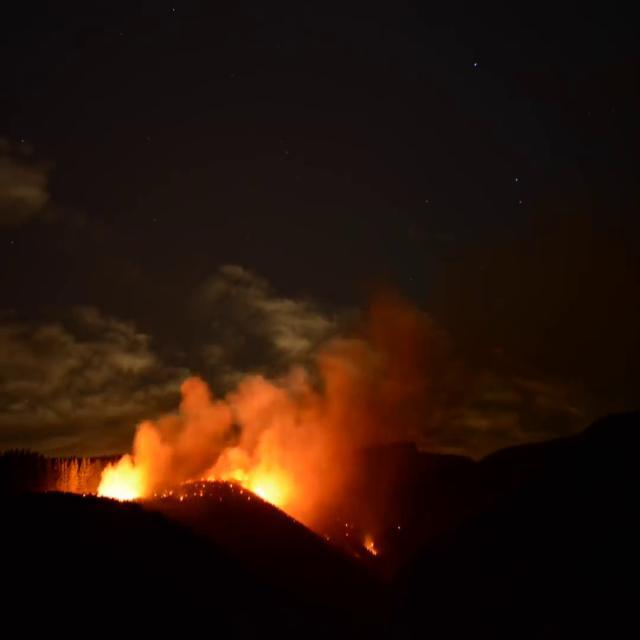Fire: (232, 458, 292, 508), (155, 470, 224, 502), (95, 464, 147, 504), (363, 532, 377, 558)
Smoke: (124, 334, 360, 462)
